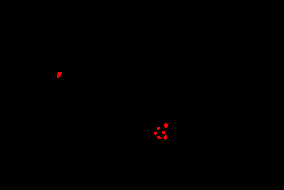Target: (57, 72, 62, 78), (164, 123, 168, 128), (163, 135, 167, 140), (157, 136, 161, 139), (157, 127, 160, 130), (162, 131, 165, 134), (154, 132, 157, 135)
